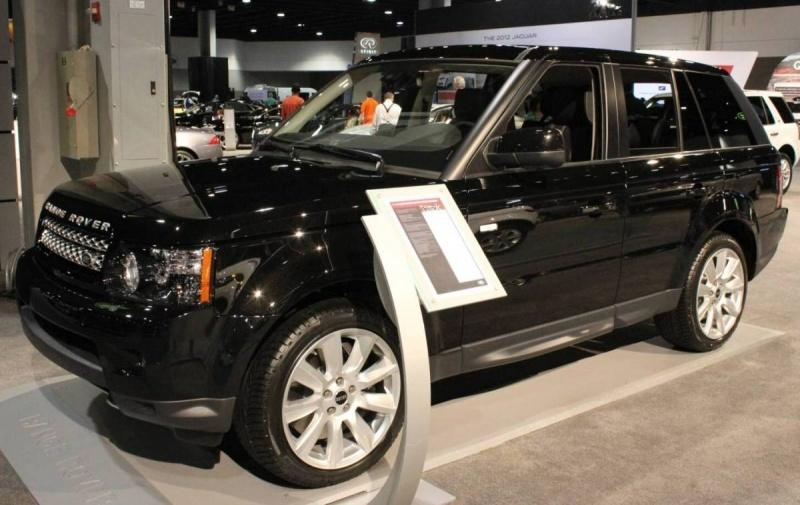range rover: (41, 196, 113, 236)
